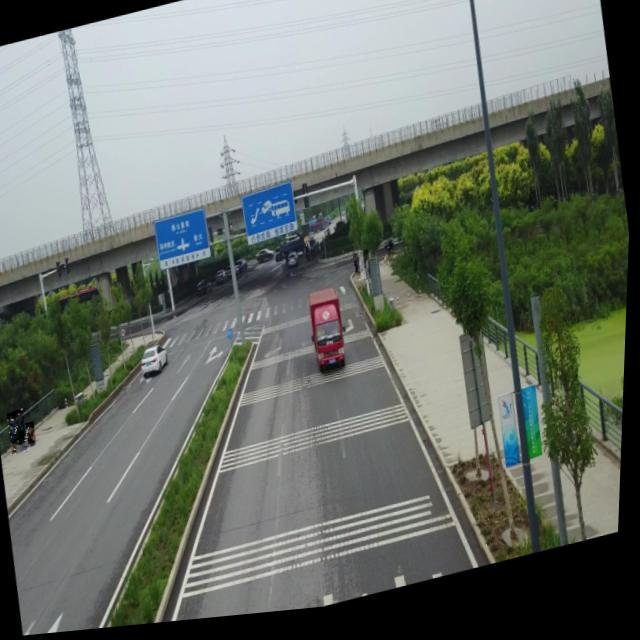Person: (9, 412, 25, 456), (15, 409, 32, 450), (356, 256, 370, 288), (362, 256, 375, 288), (384, 245, 398, 273), (354, 257, 365, 287), (28, 422, 40, 445), (307, 249, 313, 265)
